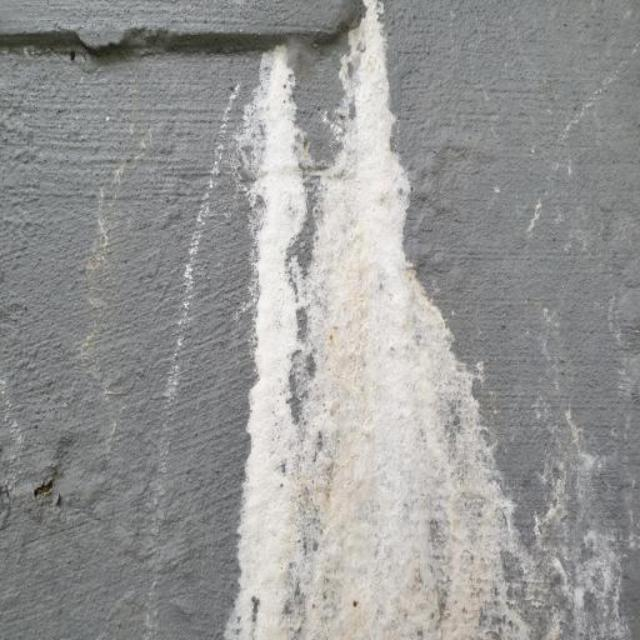D01: (222, 14, 517, 639)
